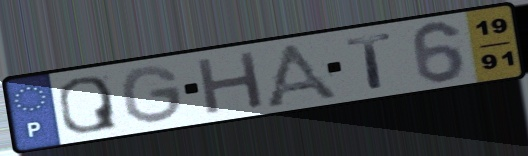6: (410, 19, 466, 86)
A: (260, 40, 345, 108)
G: (117, 64, 187, 126)
H: (193, 48, 267, 118)
Q: (55, 74, 121, 135)
T: (343, 30, 397, 91)
